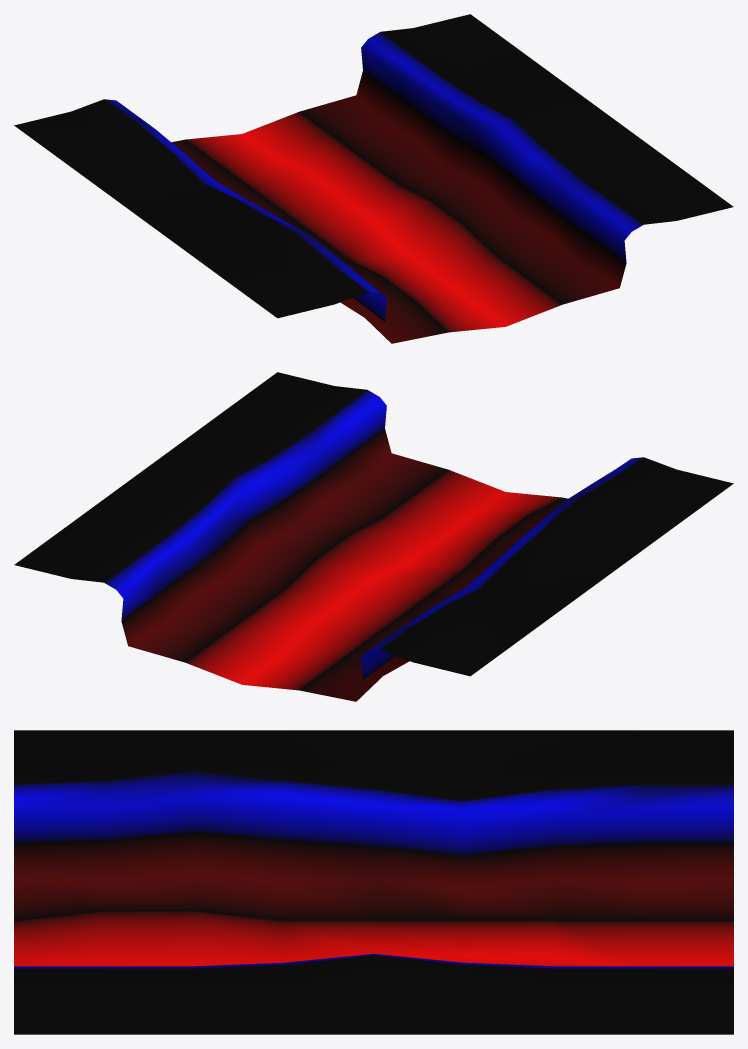
Rendered from straight_path1.fbx.
3 views of the same model, one above another, from view 1: azimuth 30°, elevation 25°; view 2: azimuth 150°, elevation 25°; view 3: azimuth 270°, elevation 25° (orthographic). The views are drawn at different scales.
Parts seen in each view (by area): view 1: Straight_Path; view 2: Straight_Path; view 3: Straight_Path.
Part boxes in pixels (left/top/right/bottom): Straight_Path: left=14, top=14, right=733, bottom=343; Straight_Path: left=14, top=372, right=733, bottom=701; Straight_Path: left=14, top=730, right=733, bottom=1034.
Size of the model in its own units: 2560 by 419 by 2560.
